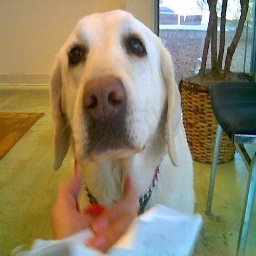dog: (49, 10, 197, 243)
